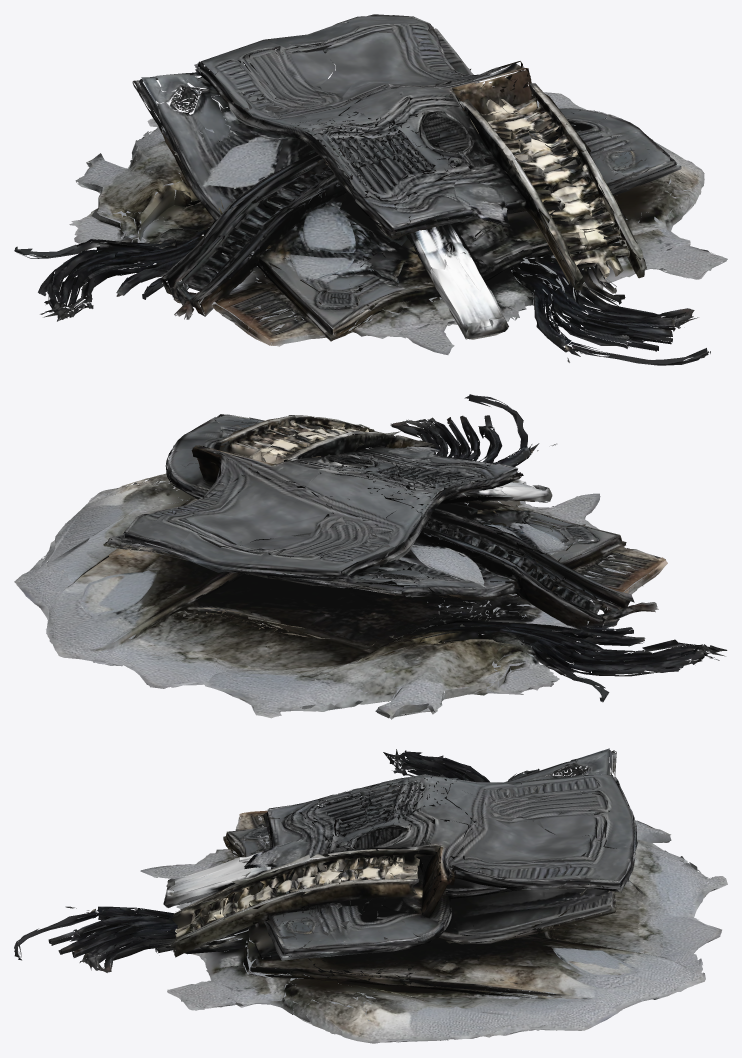
File: life_ceiling_collapse.glb
3 renders of one model, top to bottom at view 1: azimuth 30°, elevation 25°; view 2: azimuth 150°, elevation 25°; view 3: azimuth 270°, elevation 25°, orthographic. The views are drawn at different scales.
Parts seen in each view (by area): view 1: node_0; view 2: node_0; view 3: node_0.
Boxes of the visible parts, x1,y1,x2,y2 form: node_0: (14,14,727,365); node_0: (14,394,727,719); node_0: (14,748,727,1043).
Bounding box in the file's own units: 1.06 × 0.1942 × 1.09.
1 material, 1 textured.
